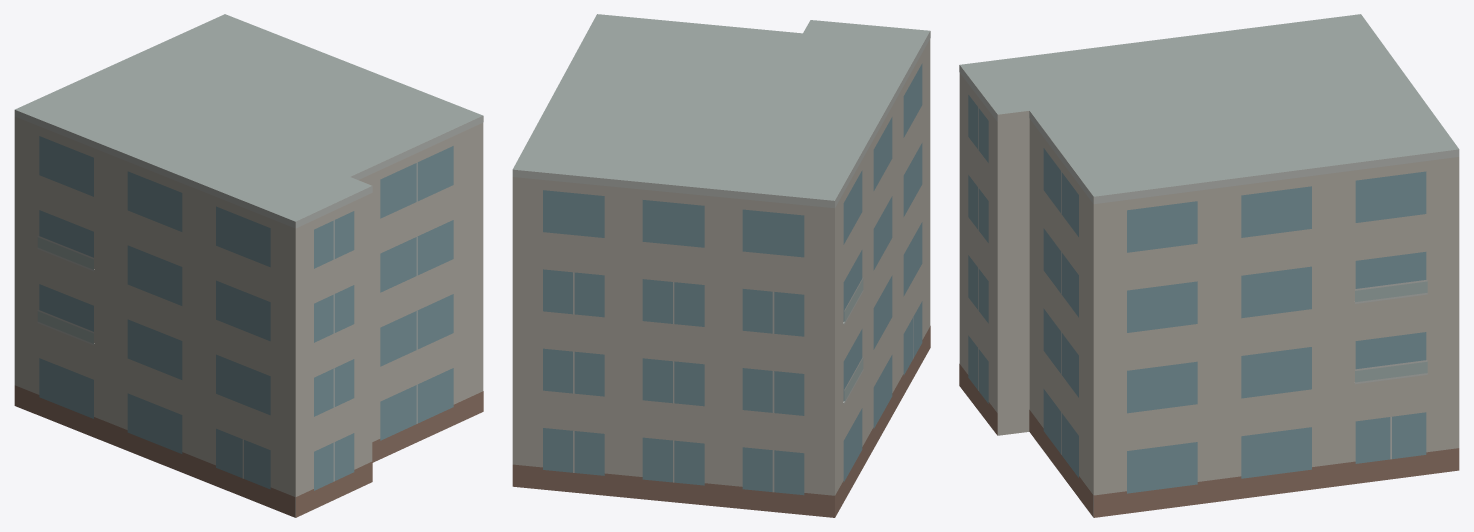
File: survey-upis-32526271.glb
3 views of the same model, side by side, from view 1: azimuth 30°, elevation 25°; view 2: azimuth 150°, elevation 25°; view 3: azimuth 270°, elevation 25° (orthographic). The views are drawn at different scales.
Visible parts, largest first — view 1: survey-upis-32526271.tmp; view 2: survey-upis-32526271.tmp; view 3: survey-upis-32526271.tmp.
Boxes of the visible parts, <box> form: survey-upis-32526271.tmp: <box>14,14,483,517</box>; survey-upis-32526271.tmp: <box>512,14,930,517</box>; survey-upis-32526271.tmp: <box>959,14,1459,517</box>.
Size of the model in its own units: 12.83 by 10.5 by 14.83.
